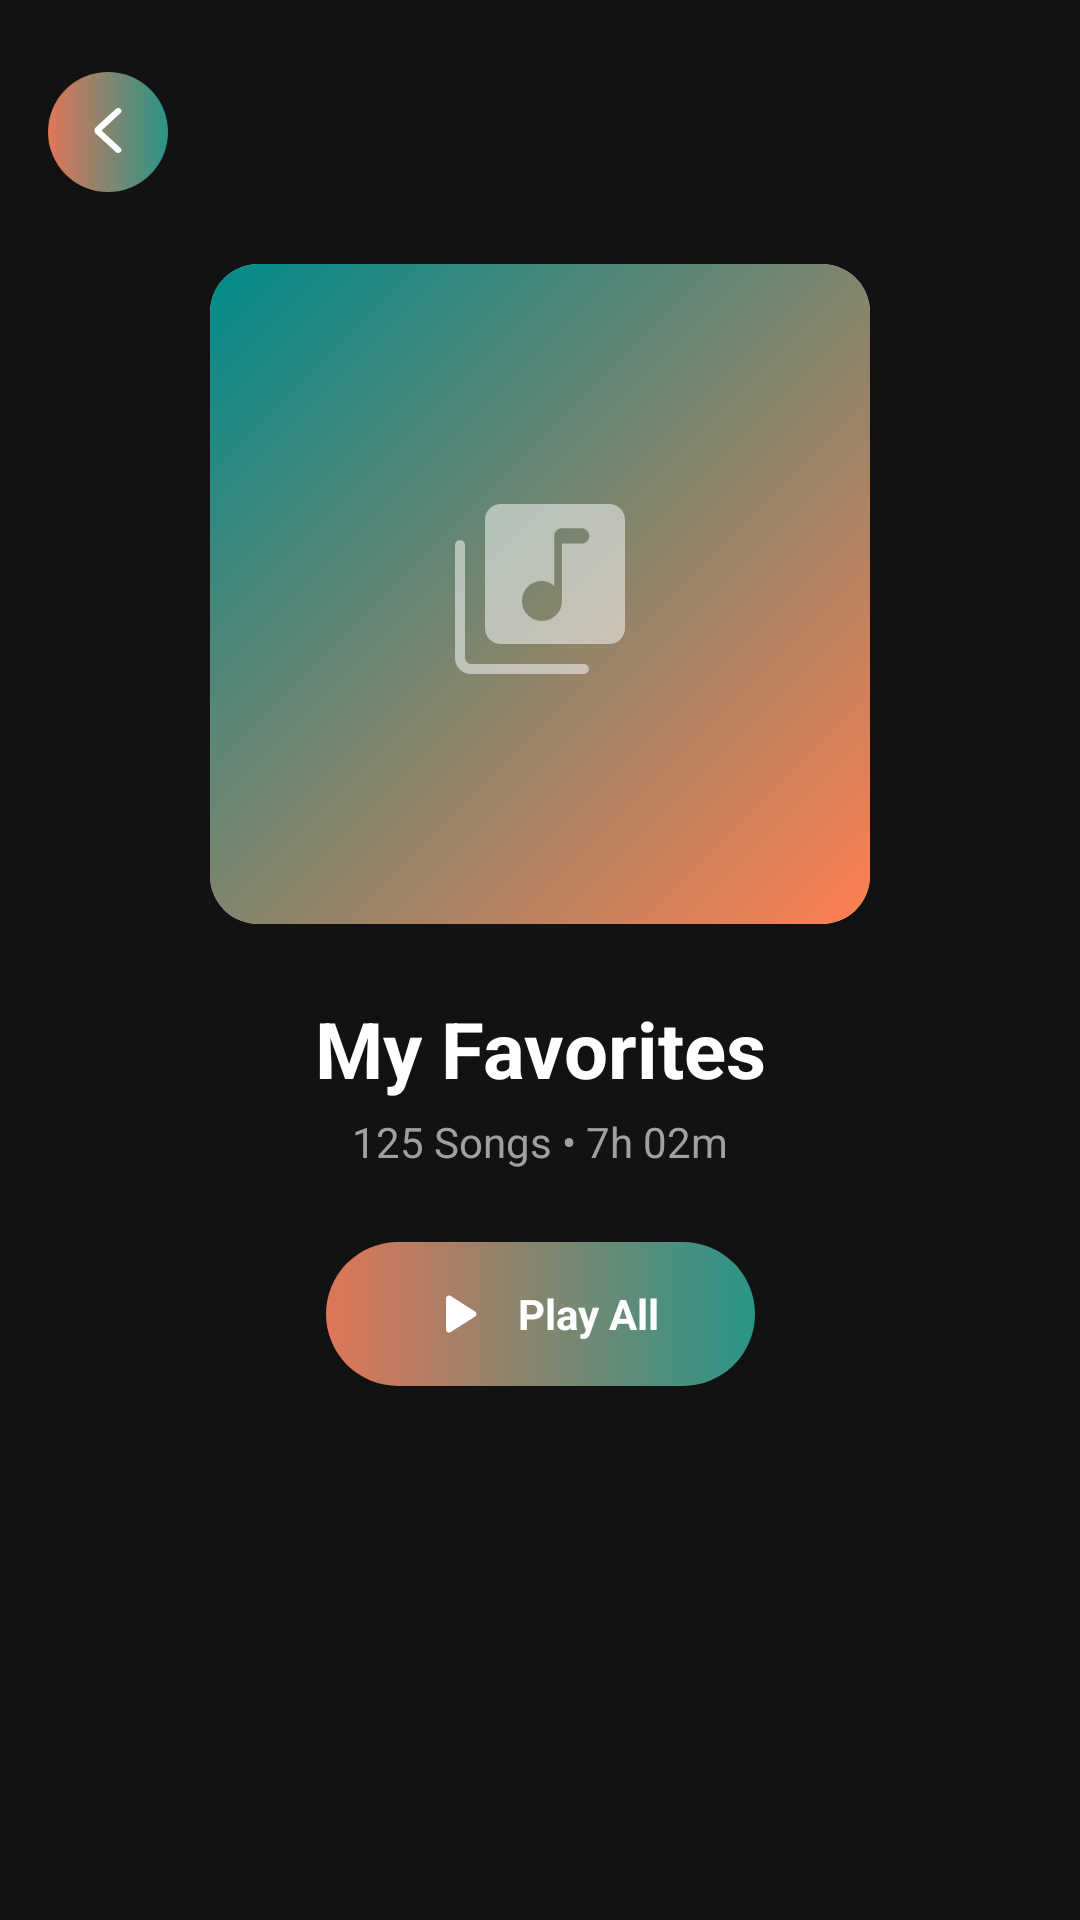

Point at icon controls on the screen. Image size 1080x1920, points as [x,y].
back arrow: [108,132]
music library: [540,594]
